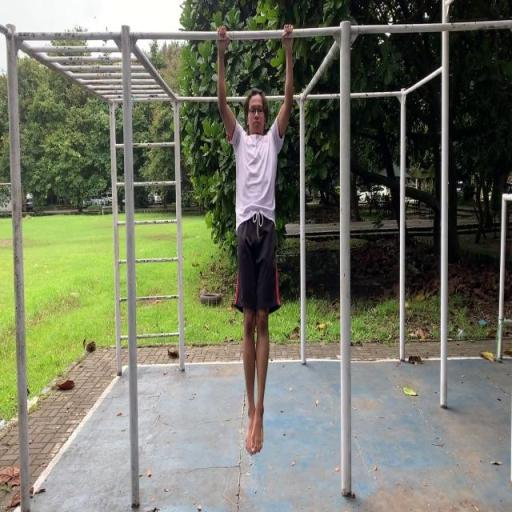Normal_BrenchPress: (214, 24, 296, 457)
